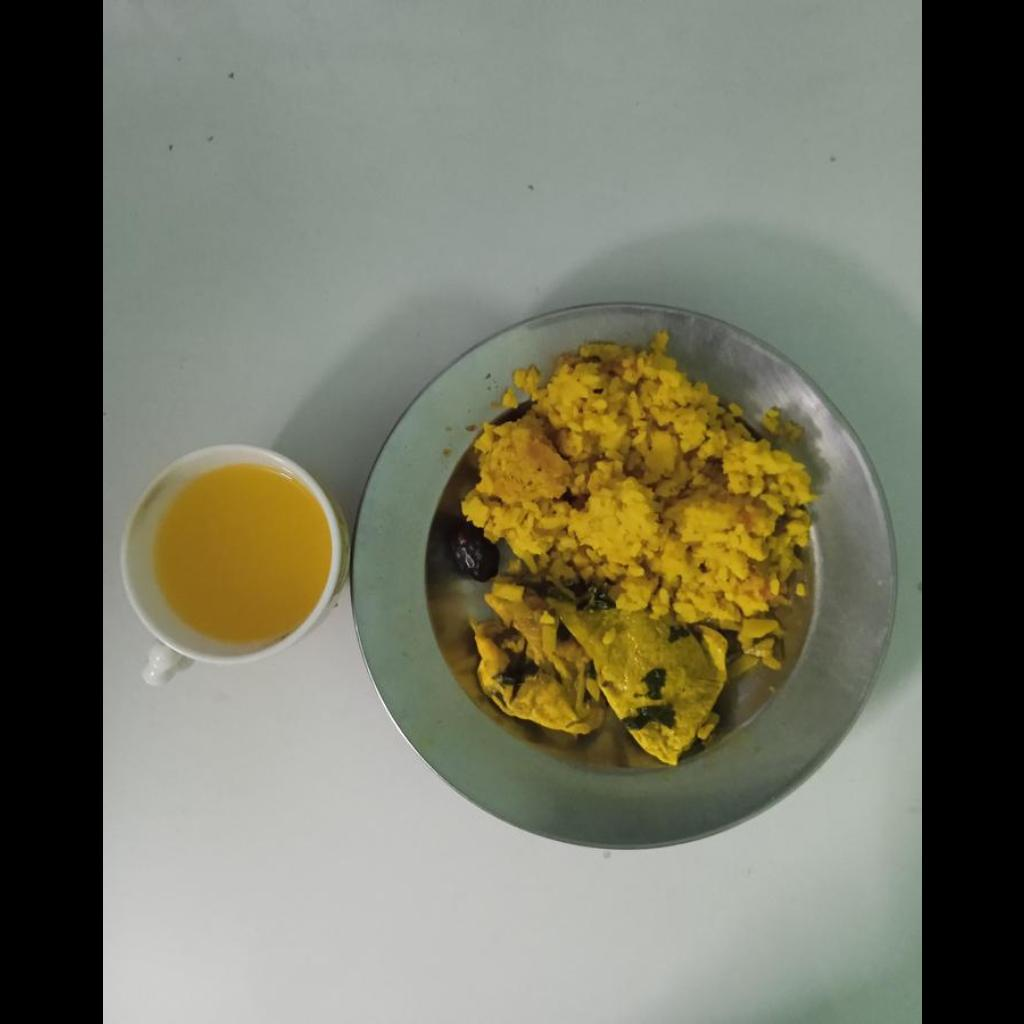chicken: (471, 582, 727, 766)
juice: (154, 468, 326, 643)
khichuri: (459, 331, 816, 670)
